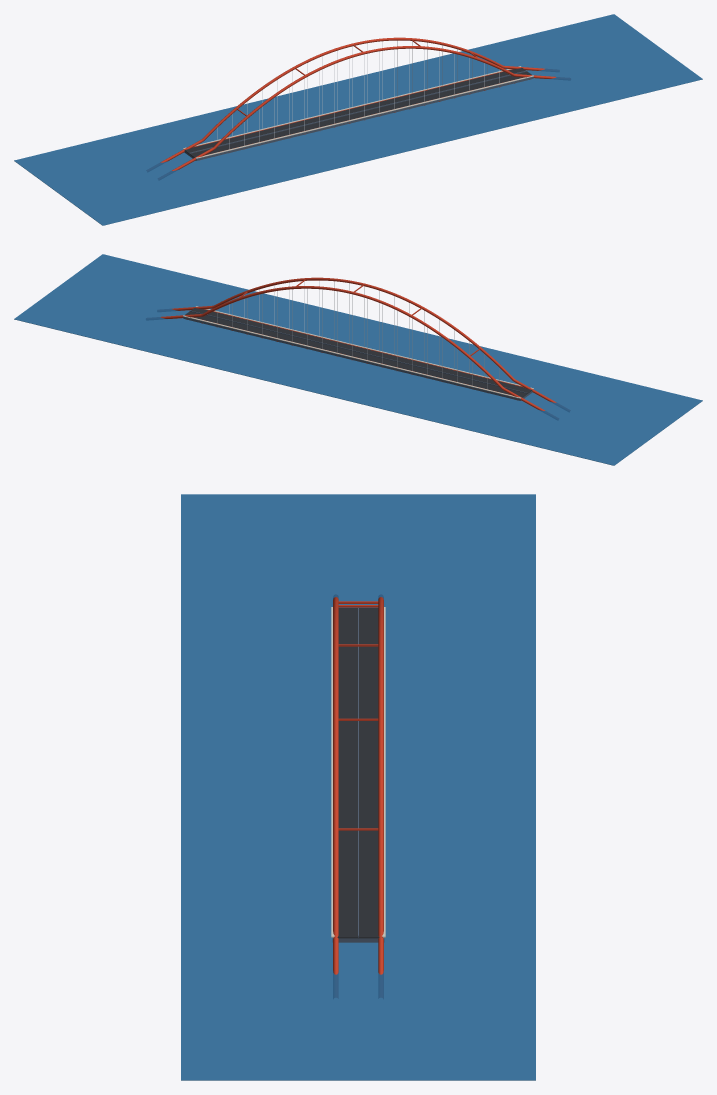
File: wuchang-changfeng-bridge.glb
The picture shows the model from 3 angles, top to bottom: view 1: azimuth 30°, elevation 25°; view 2: azimuth 150°, elevation 25°; view 3: azimuth 270°, elevation 25°; orthographic projection. The views are drawn at different scales.
Parts seen in each view (by area): view 1: River-Surface, Road-Surface, Arch-Rib-South, Arch-Rib-North, Deck-Girder, Walkway-North, Center-Barrier, Walkway-South, Tie-Girder-South; view 2: River-Surface, Road-Surface, Arch-Rib-North, Arch-Rib-South, Deck-Girder, Walkway-South, Center-Barrier, Walkway-North, Tie-Girder-North; view 3: River-Surface, Road-Surface, Arch-Rib-South, Arch-Rib-North.
Boxes of the visible parts, x1,y1,x2,y2 form: River-Surface: (14, 14, 702, 225); Road-Surface: (184, 67, 531, 157); Arch-Rib-South: (160, 37, 544, 162); Arch-Rib-North: (172, 46, 556, 170); Deck-Girder: (184, 76, 533, 160); Walkway-North: (196, 75, 533, 158); Center-Barrier: (189, 70, 527, 153); Walkway-South: (183, 66, 521, 149); Tie-Girder-South: (193, 69, 512, 147); River-Surface: (14, 254, 702, 465); Road-Surface: (185, 307, 532, 397); Arch-Rib-North: (172, 277, 556, 402); Arch-Rib-South: (160, 286, 544, 410); Deck-Girder: (183, 316, 532, 400); Walkway-South: (183, 315, 520, 398); Center-Barrier: (189, 310, 527, 393); Walkway-North: (195, 306, 533, 389); Tie-Girder-North: (204, 309, 523, 387); River-Surface: (181, 494, 535, 1080); Road-Surface: (337, 608, 379, 938); Arch-Rib-South: (378, 597, 383, 974); Arch-Rib-North: (333, 597, 338, 974).
Size of what is drawn, in the model's own units: 320 by 40.24 by 82.
